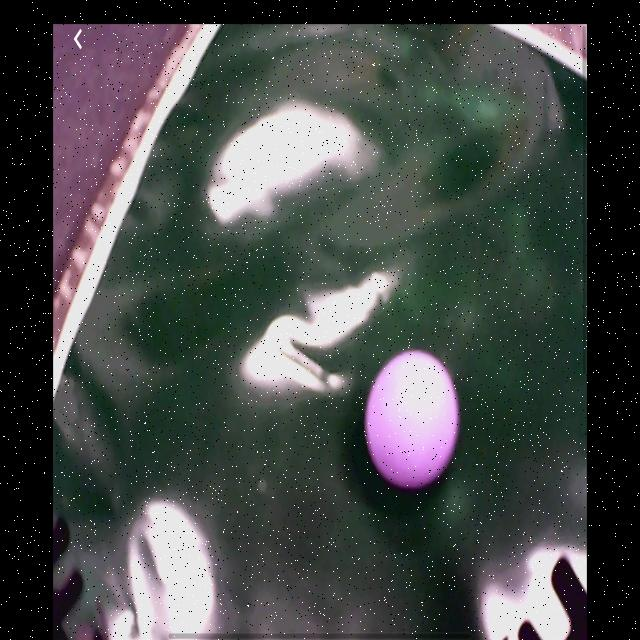ball: (364, 350, 462, 492)
